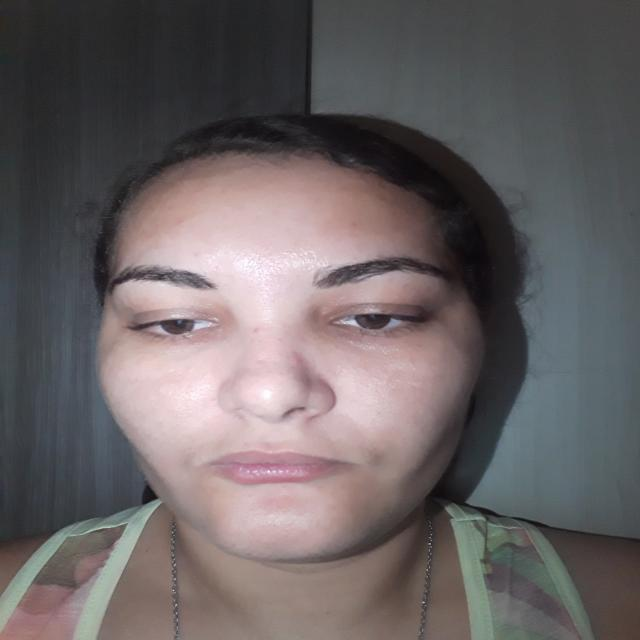Acne: (289, 349, 307, 367), (247, 323, 263, 336), (176, 216, 190, 228), (348, 220, 359, 230), (191, 211, 202, 220)
Englarged-Pores: (346, 371, 401, 420), (235, 252, 299, 282), (170, 376, 209, 408), (255, 278, 274, 307)
